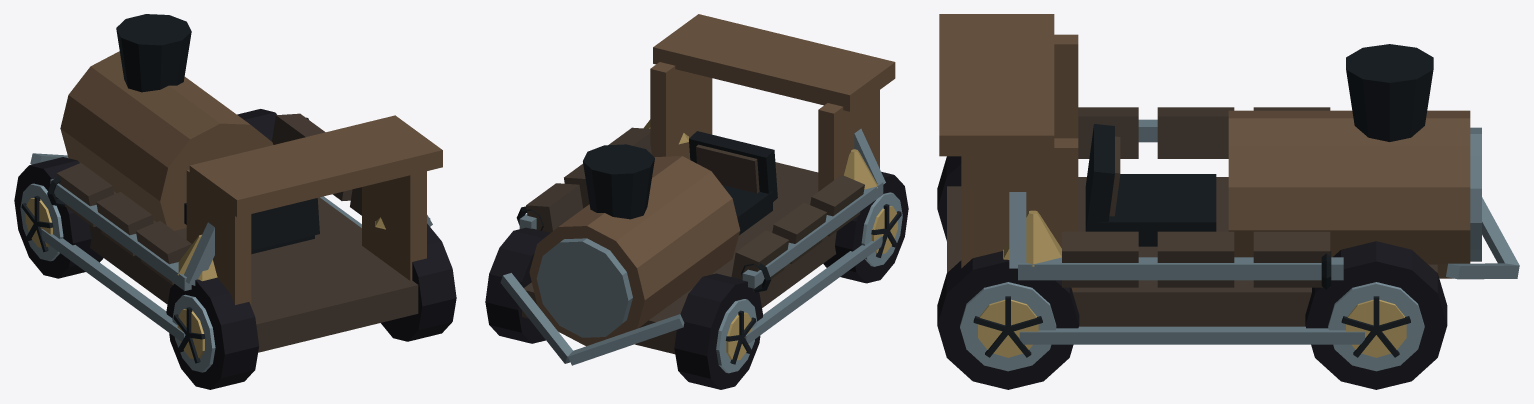
Rendered from kart.glb.
3 renders of one model, left to right at view 1: azimuth 30°, elevation 25°; view 2: azimuth 150°, elevation 25°; view 3: azimuth 270°, elevation 25°, orthographic. The views are drawn at different scales.
Visible parts, largest first — view 1: identity-train-locomotive-boiler-and-cowcatcher, wheel-rear-left, identity-train-motif-armor, wheel-front-left, wheel-rear-right, identity-train-motif-pipes, identity-train-driver-cockpit, wheel-front-right, identity-train-motif-gems; view 2: identity-train-locomotive-boiler-and-cowcatcher, wheel-front-left, identity-train-motif-armor, identity-train-driver-cockpit, wheel-rear-left, wheel-front-right, identity-train-motif-pipes, identity-train-motif-gems; view 3: identity-train-locomotive-boiler-and-cowcatcher, identity-train-motif-armor, wheel-front-right, wheel-rear-right, identity-train-driver-cockpit, identity-train-motif-pipes, identity-train-motif-gems, wheel-rear-left.
Part boxes in pixels (x1,y1,x2,y2): identity-train-locomotive-boiler-and-cowcatcher: (30,14,442,352); wheel-rear-left: (166,277,259,389); identity-train-motif-armor: (56,113,361,284); wheel-front-left: (14,157,103,278); wheel-rear-right: (381,223,456,341); identity-train-motif-pipes: (47,117,432,290); identity-train-driver-cockpit: (184,198,319,254); wheel-front-right: (237,109,276,141); identity-train-motif-gems: (177,217,385,281); identity-train-locomotive-boiler-and-cowcatcher: (500,14,895,365); wheel-front-left: (674,273,762,389); identity-train-motif-armor: (526,127,864,291); identity-train-driver-cockpit: (689,131,777,235); wheel-rear-left: (823,171,908,283); wheel-front-right: (485,227,550,343); identity-train-motif-pipes: (516,128,885,292); identity-train-motif-gems: (644,119,877,189); identity-train-locomotive-boiler-and-cowcatcher: (939,14,1519,344); identity-train-motif-armor: (1062,107,1330,287); wheel-front-right: (1305,241,1447,389); wheel-rear-right: (937,251,1079,389); identity-train-driver-cockpit: (1085,124,1216,246); identity-train-motif-pipes: (1009,119,1343,289); identity-train-motif-gems: (1003,210,1061,266); wheel-rear-left: (937,156,961,240).
Bounding box in the file's own units: 1.94 × 1.49 × 3.04.
